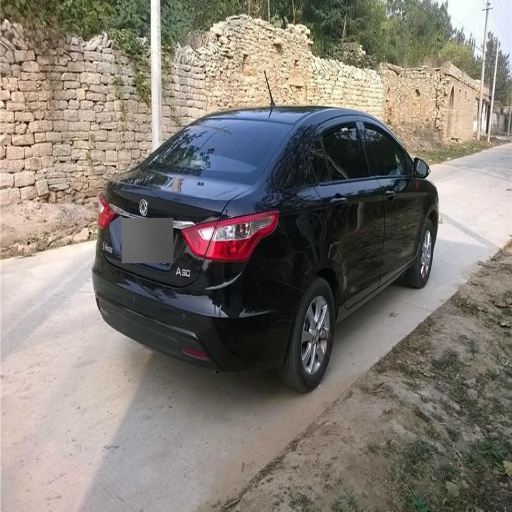back_bumper: (93, 255, 297, 376)
back_right_door: (305, 118, 384, 305)
tailgate: (107, 171, 244, 270)
